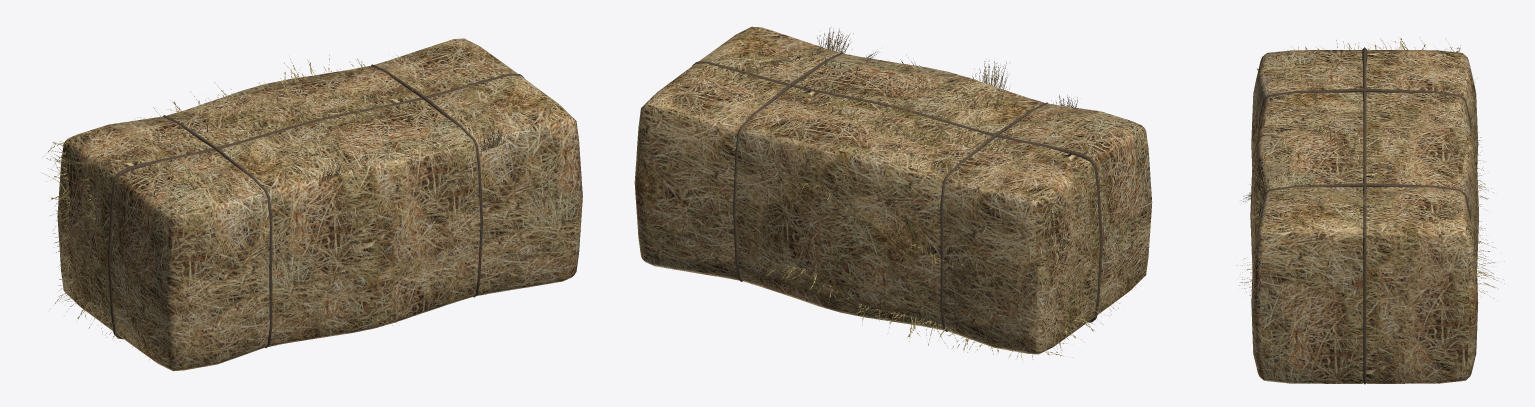
The model's file is HayBale.fbx.
The picture shows the model from 3 angles, left to right: view 1: azimuth 30°, elevation 25°; view 2: azimuth 150°, elevation 25°; view 3: azimuth 270°, elevation 25°; orthographic projection. The views are drawn at different scales.
Visible parts, largest first — view 1: HayBale; view 2: HayBale; view 3: HayBale.
Part boxes in pixels (<box>): HayBale: <box>42,38,582,371</box>; HayBale: <box>634,26,1152,359</box>; HayBale: <box>1236,38,1504,384</box>.
Bounding box in the file's own units: 1.18 × 0.5138 × 0.728.
1 material, 1 textured.
